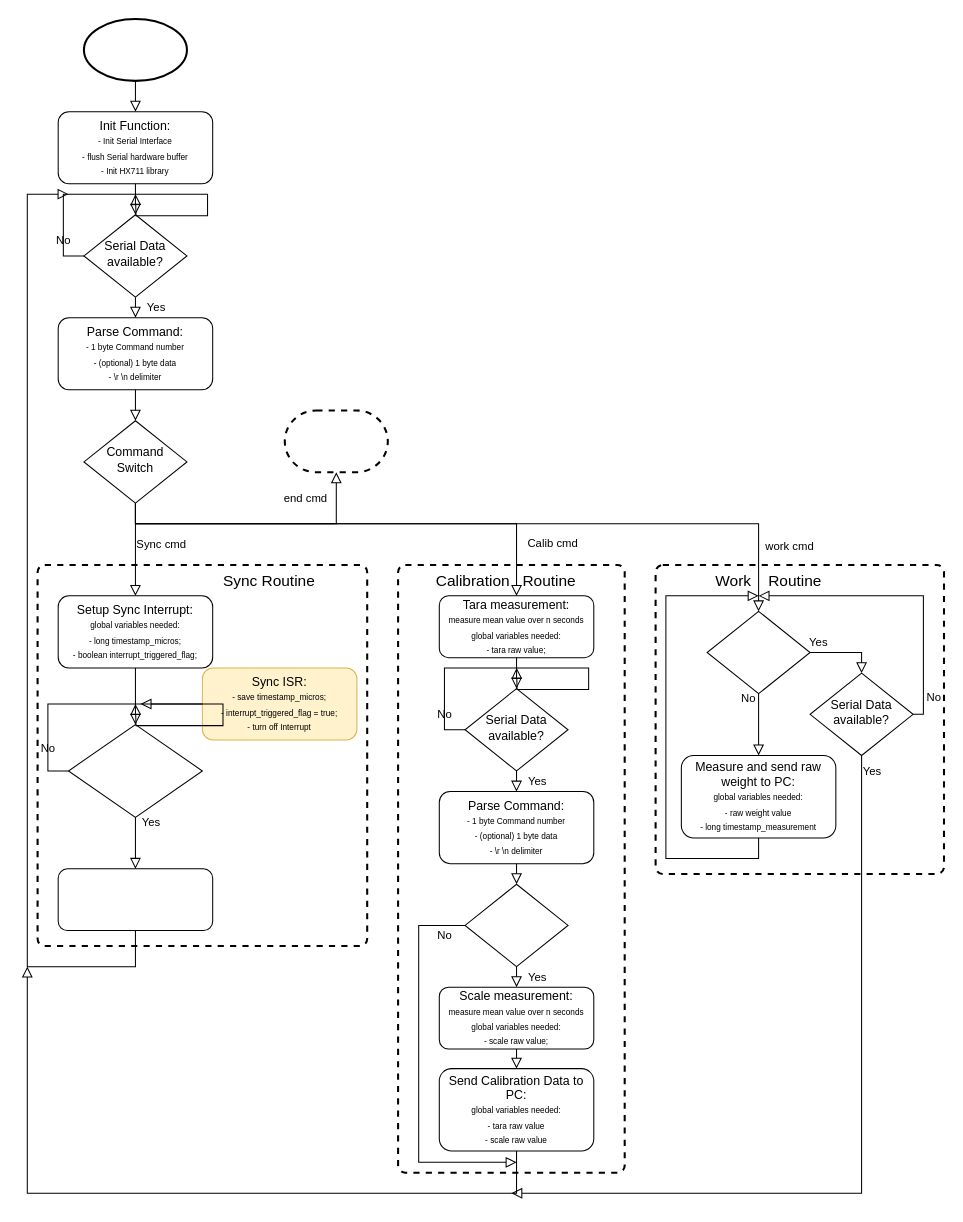
The diagram is 963 pixels wide and 1222 high, and some of its shapes have lost their labels. The centre of each missing label's shape, as x and y in pixels:
"End: - exit() call" goes at (x=335, y=441).
"interrupt_ triggered_flag == true?" goes at (x=134, y=770).
"is scale command?" goes at (x=516, y=925).
"Power Up (Start)" goes at (x=134, y=49).
"Send Sync Data to PC: global variables needed: - long timestamp_micros;" goes at (x=135, y=899).
"t_check zeit vergangen?" goes at (x=758, y=652).
